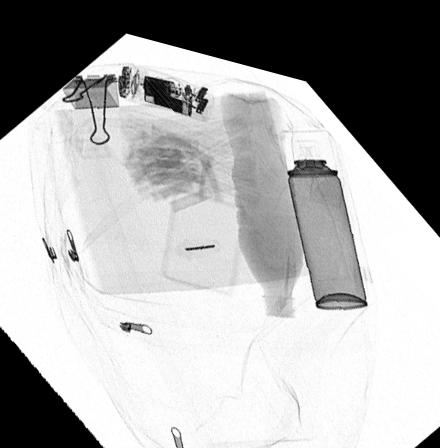Sprayer: (281, 113, 367, 293)
